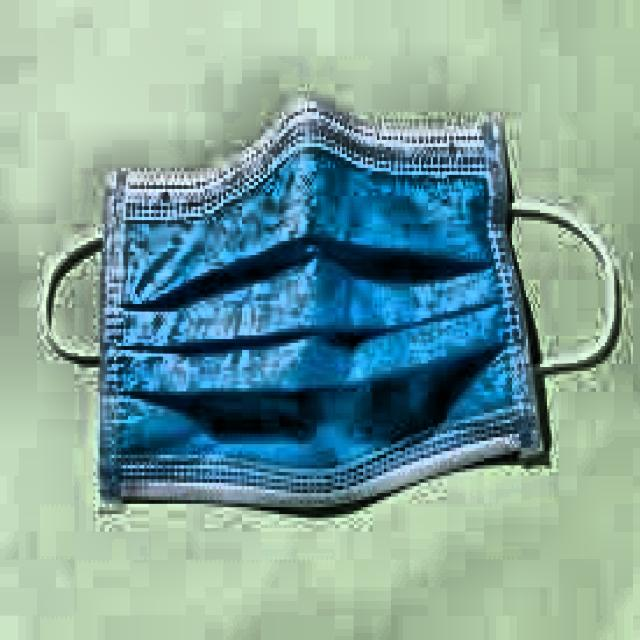trash: (102, 98, 547, 519)
